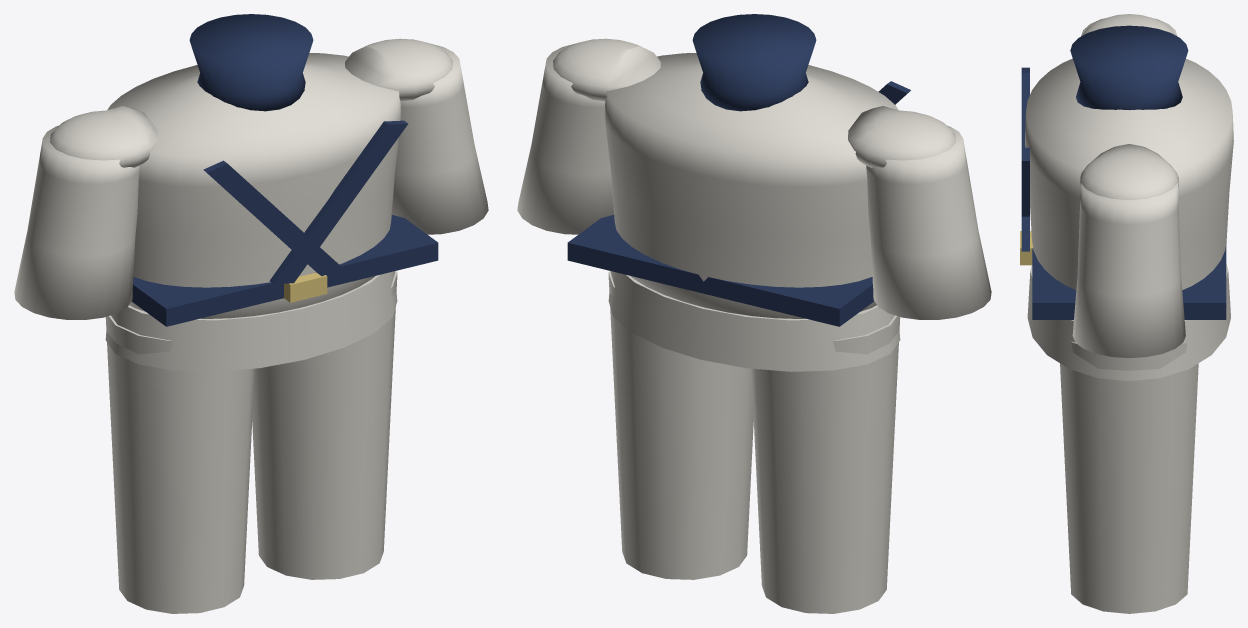
The model's file is suit_ancient_0.glb.
3 views of the same model, side by side, from view 1: azimuth 30°, elevation 25°; view 2: azimuth 150°, elevation 25°; view 3: azimuth 270°, elevation 25° (orthographic). The views are drawn at different scales.
Size of the model in its own units: 0.6992 by 0.7724 by 0.2959.
